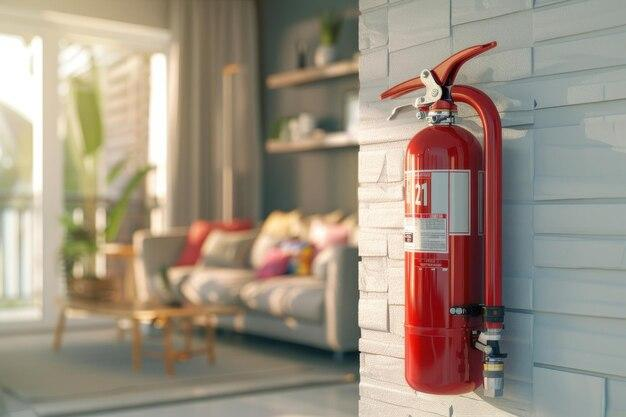wall-mounted: (368, 43, 526, 407)
